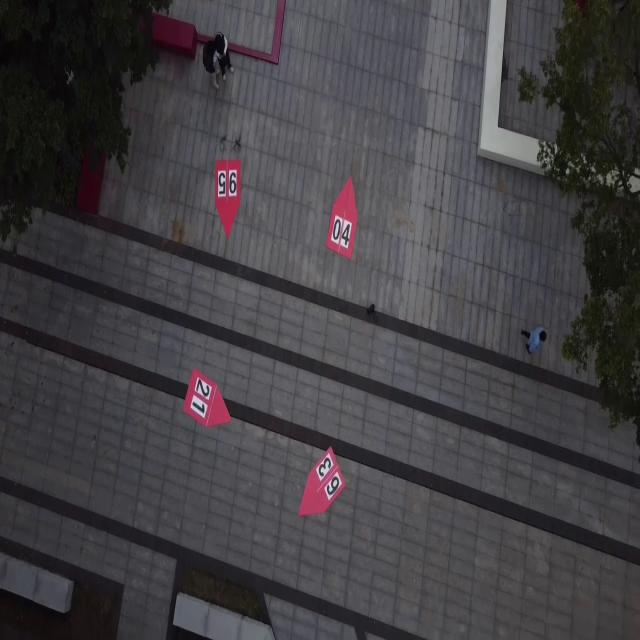-sign-: (298, 447, 346, 518), (182, 368, 232, 429), (326, 176, 358, 260), (214, 157, 241, 237)
